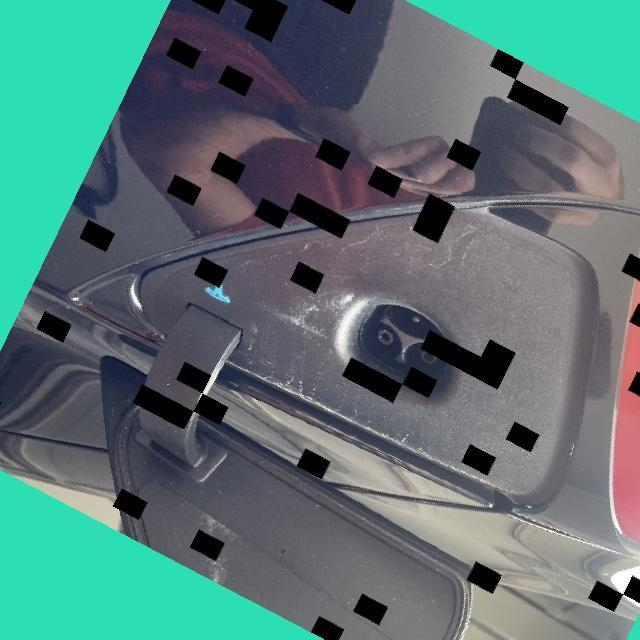Tesla Model-S-: (329, 278, 476, 422)
